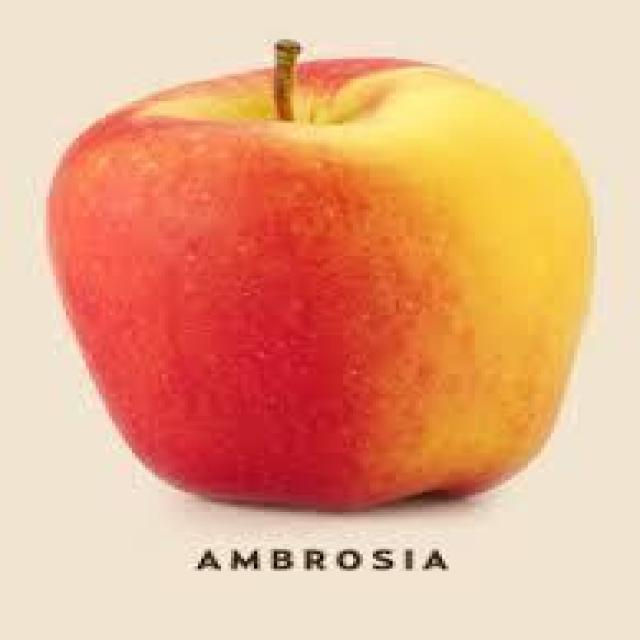maca: (43, 37, 594, 512)
